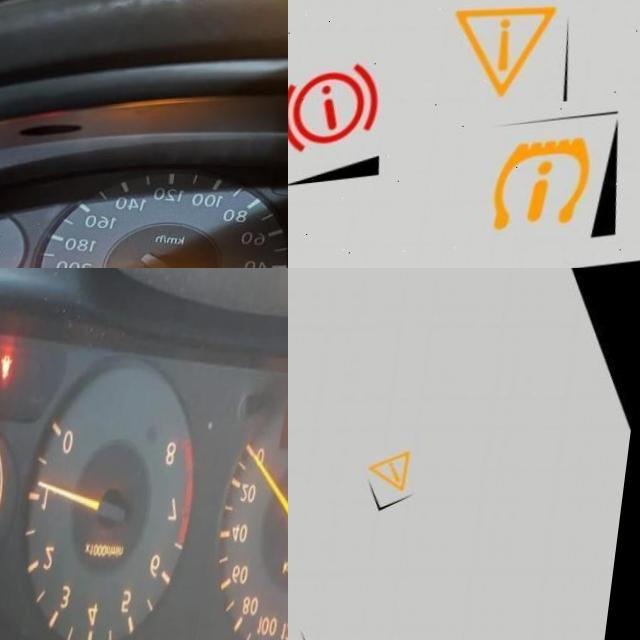Seat Belt: (3, 354, 18, 381)
